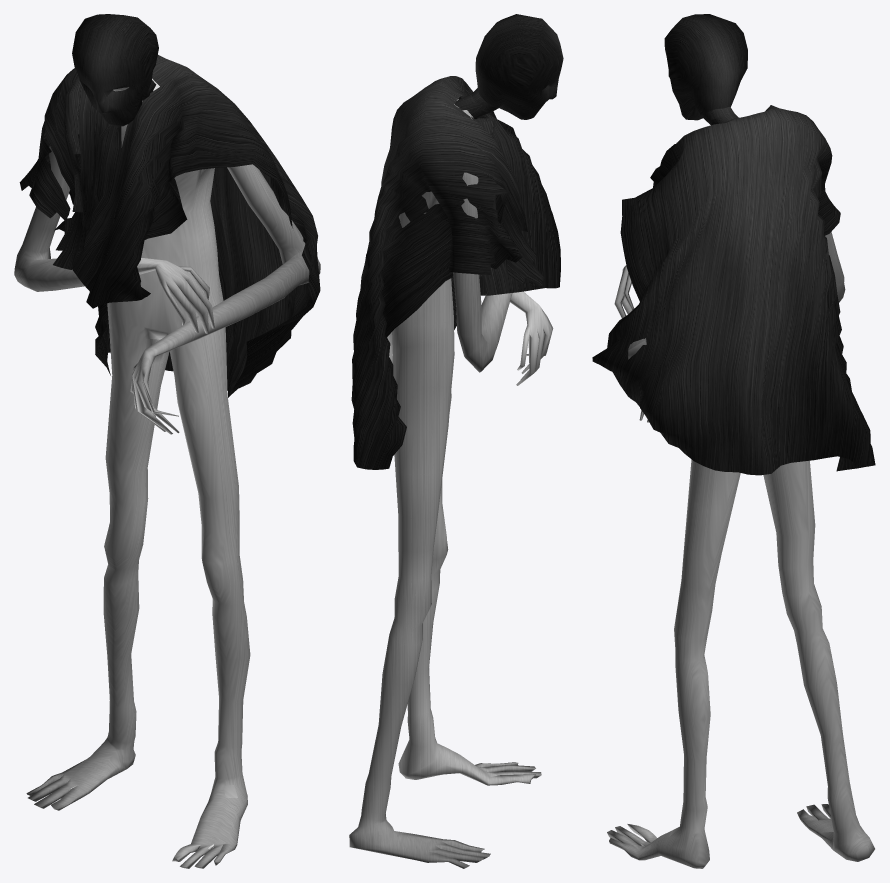
File: Fantasma1.obj
3 views of the same model, side by side, from view 1: azimuth 30°, elevation 25°; view 2: azimuth 150°, elevation 25°; view 3: azimuth 270°, elevation 25° (orthographic). The views are drawn at different scales.
Parts seen in each view (by area): view 1: OBJ32:Mesh_pasted__polySurface37 pasted__pasted__group266 pasted; view 2: OBJ32:Mesh_pasted__polySurface37 pasted__pasted__group266 pasted; view 3: OBJ32:Mesh_pasted__polySurface37 pasted__pasted__group266 pasted.
Part boxes in pixels (x1,y1,x2,y2): OBJ32:Mesh_pasted__polySurface37 pasted__pasted__group266 pasted: (14, 14, 320, 868); OBJ32:Mesh_pasted__polySurface37 pasted__pasted__group266 pasted: (349, 14, 563, 868); OBJ32:Mesh_pasted__polySurface37 pasted__pasted__group266 pasted: (592, 14, 875, 868).
Size of the model in its own units: 9.68 by 36.6 by 11.71.
